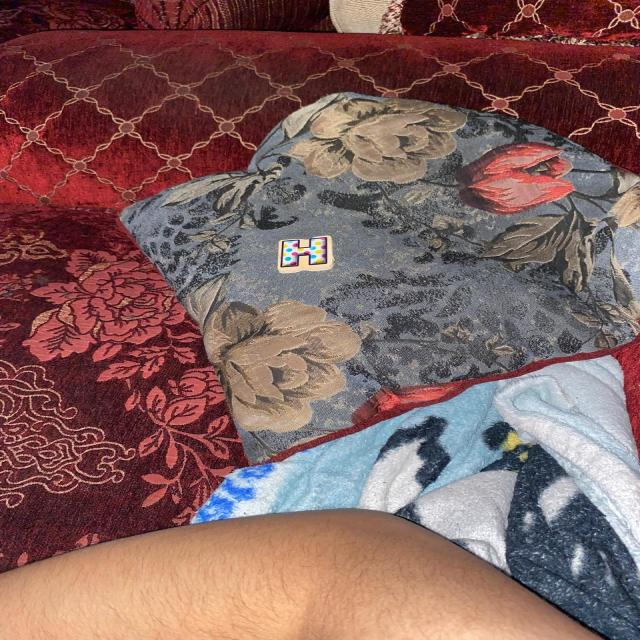H: (277, 236, 333, 274)
